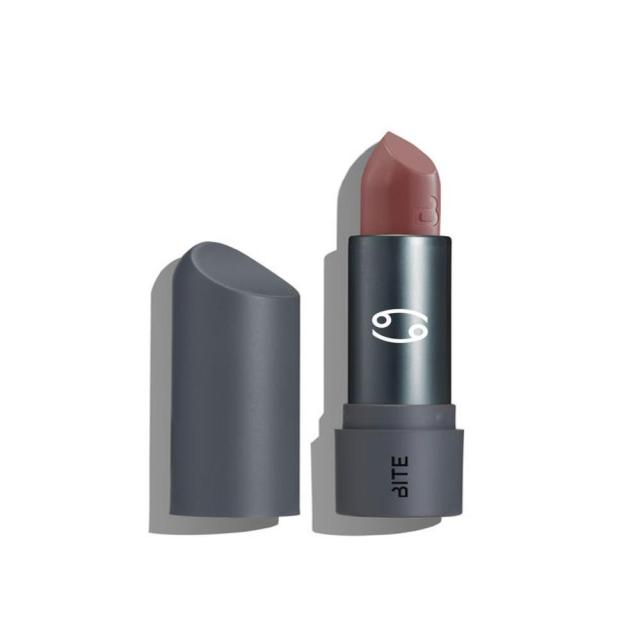lipstick: (314, 108, 476, 526)
